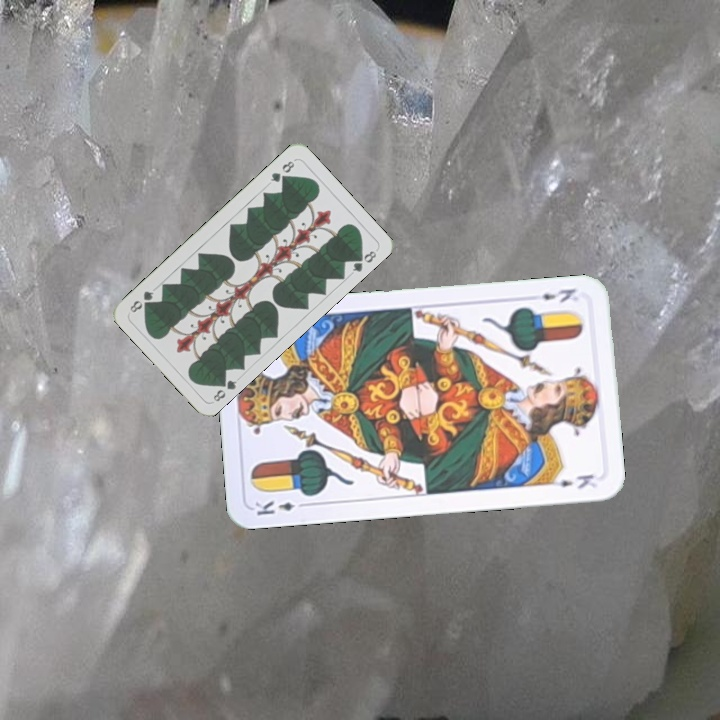EK: (251, 497, 310, 518), (538, 284, 579, 305)
G8: (209, 373, 240, 404), (266, 157, 297, 185)
